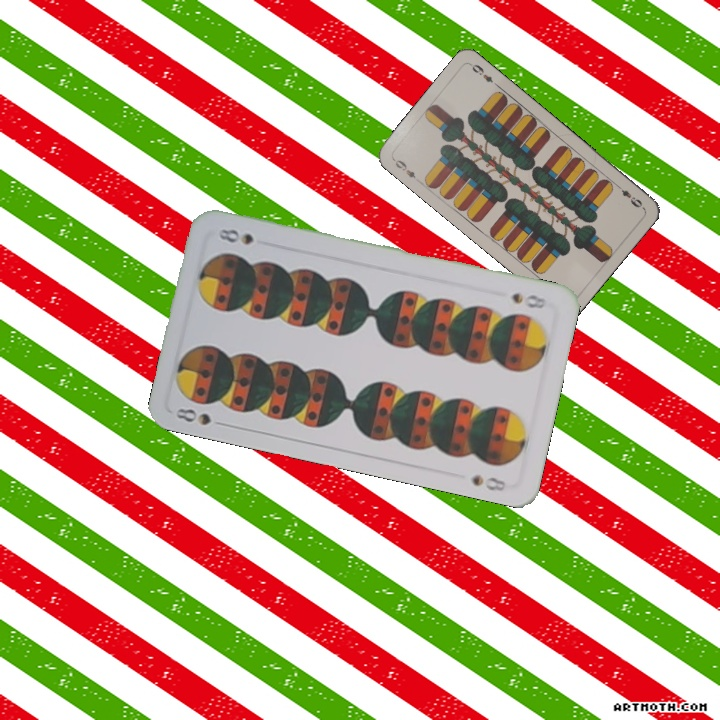E9: (389, 155, 423, 185), (612, 181, 645, 210)
S8: (172, 404, 230, 429), (508, 288, 549, 312)
